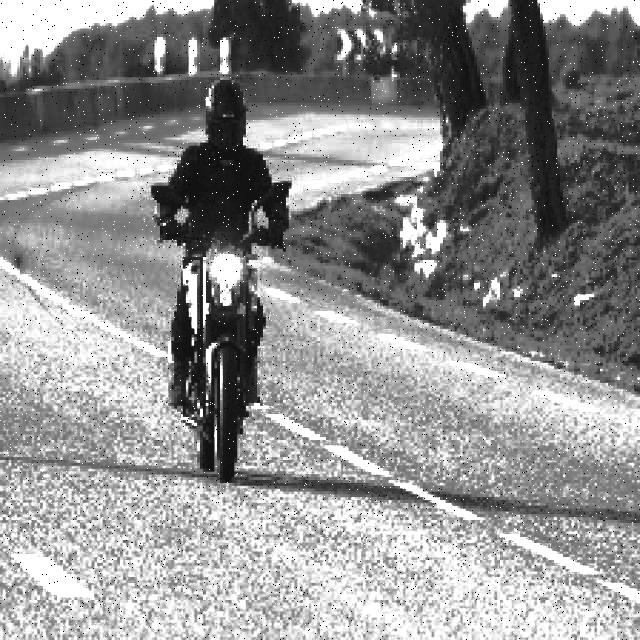Bike: (171, 204, 277, 493)
